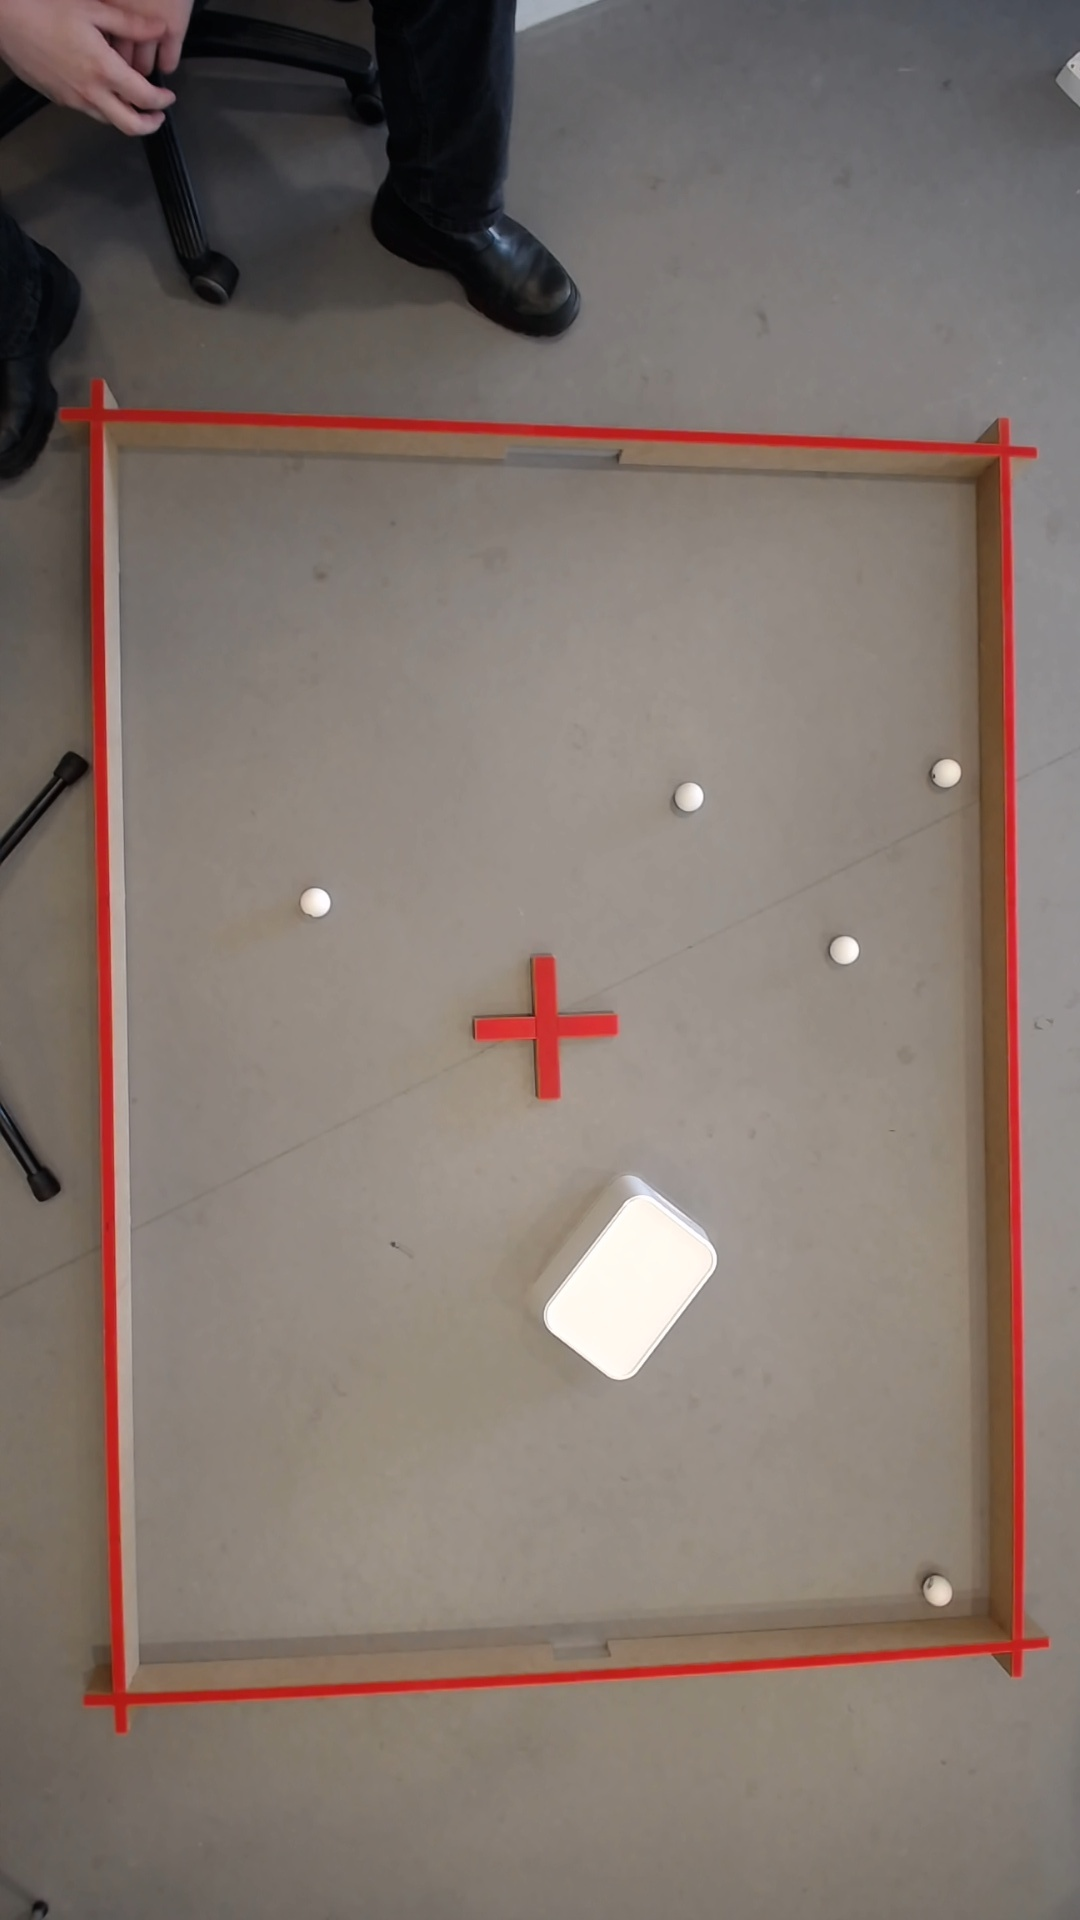balls: (533, 1183, 728, 1389), (301, 884, 334, 919), (932, 756, 965, 787), (676, 781, 708, 812), (837, 936, 858, 963)
car: (926, 1578, 955, 1607)
